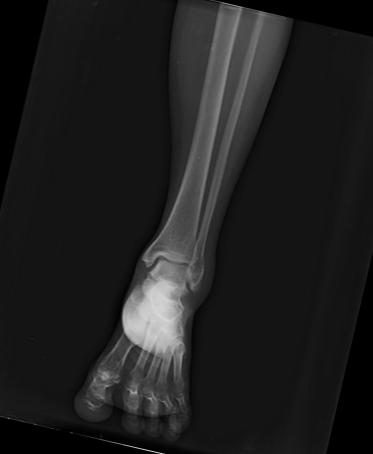fractured: (185, 236, 206, 277)
